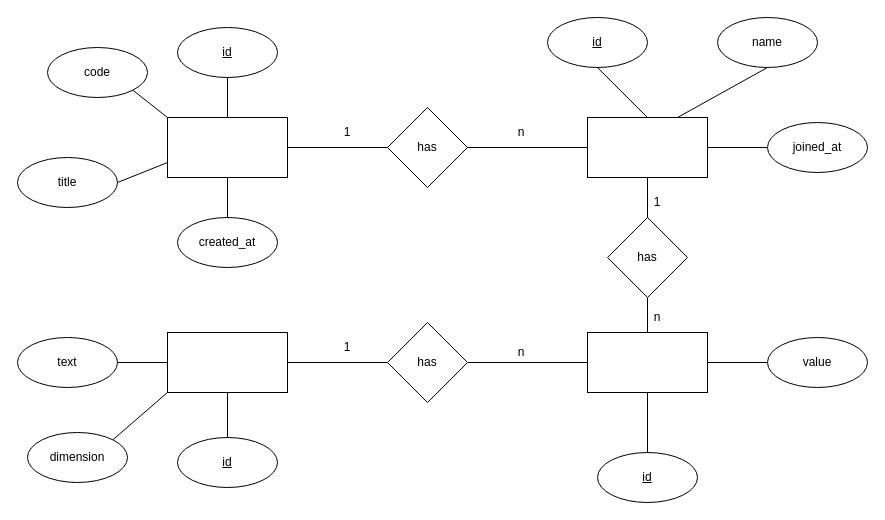
The diagram is 885 pixels wide and 520 high, and some of its shapes have lost their labels. Here are the shapes that lost their labels. From the top down, the box of each, then its label:
(166, 116, 288, 178): Workskop
(586, 116, 708, 178): Participant
(166, 332, 288, 392): Question
(586, 332, 708, 392): Awnser
